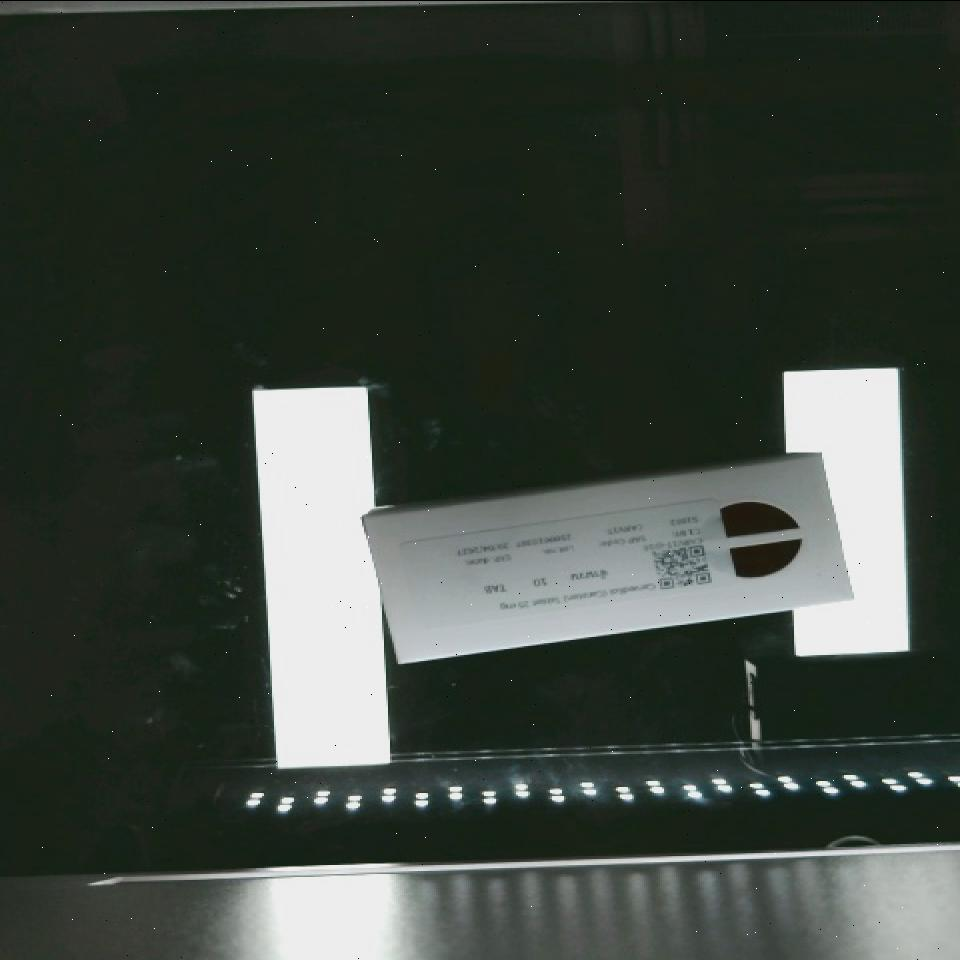medicine_box: (365, 448, 856, 667)
qr_code: (640, 532, 718, 601)
